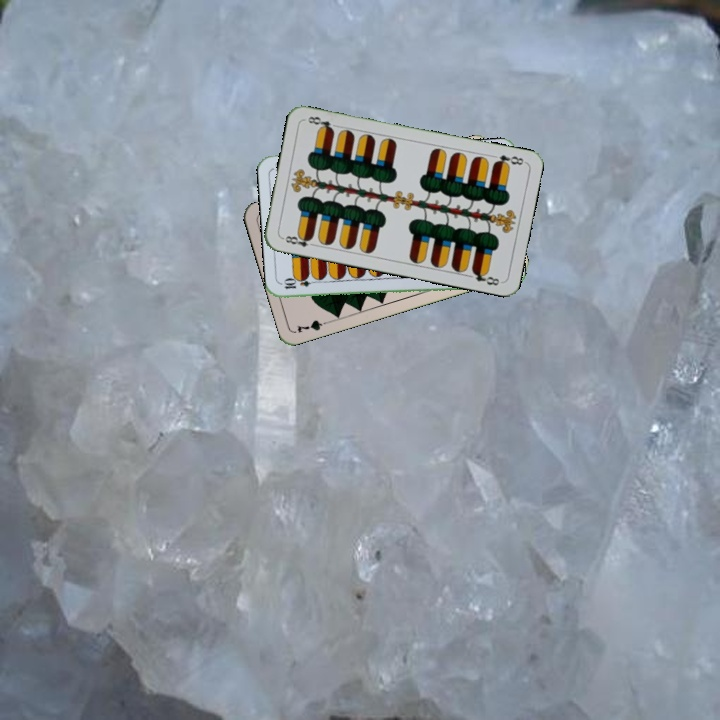E10: (280, 275, 321, 291)
E8: (278, 231, 319, 250), (490, 151, 527, 169)
G7: (293, 316, 333, 336)
